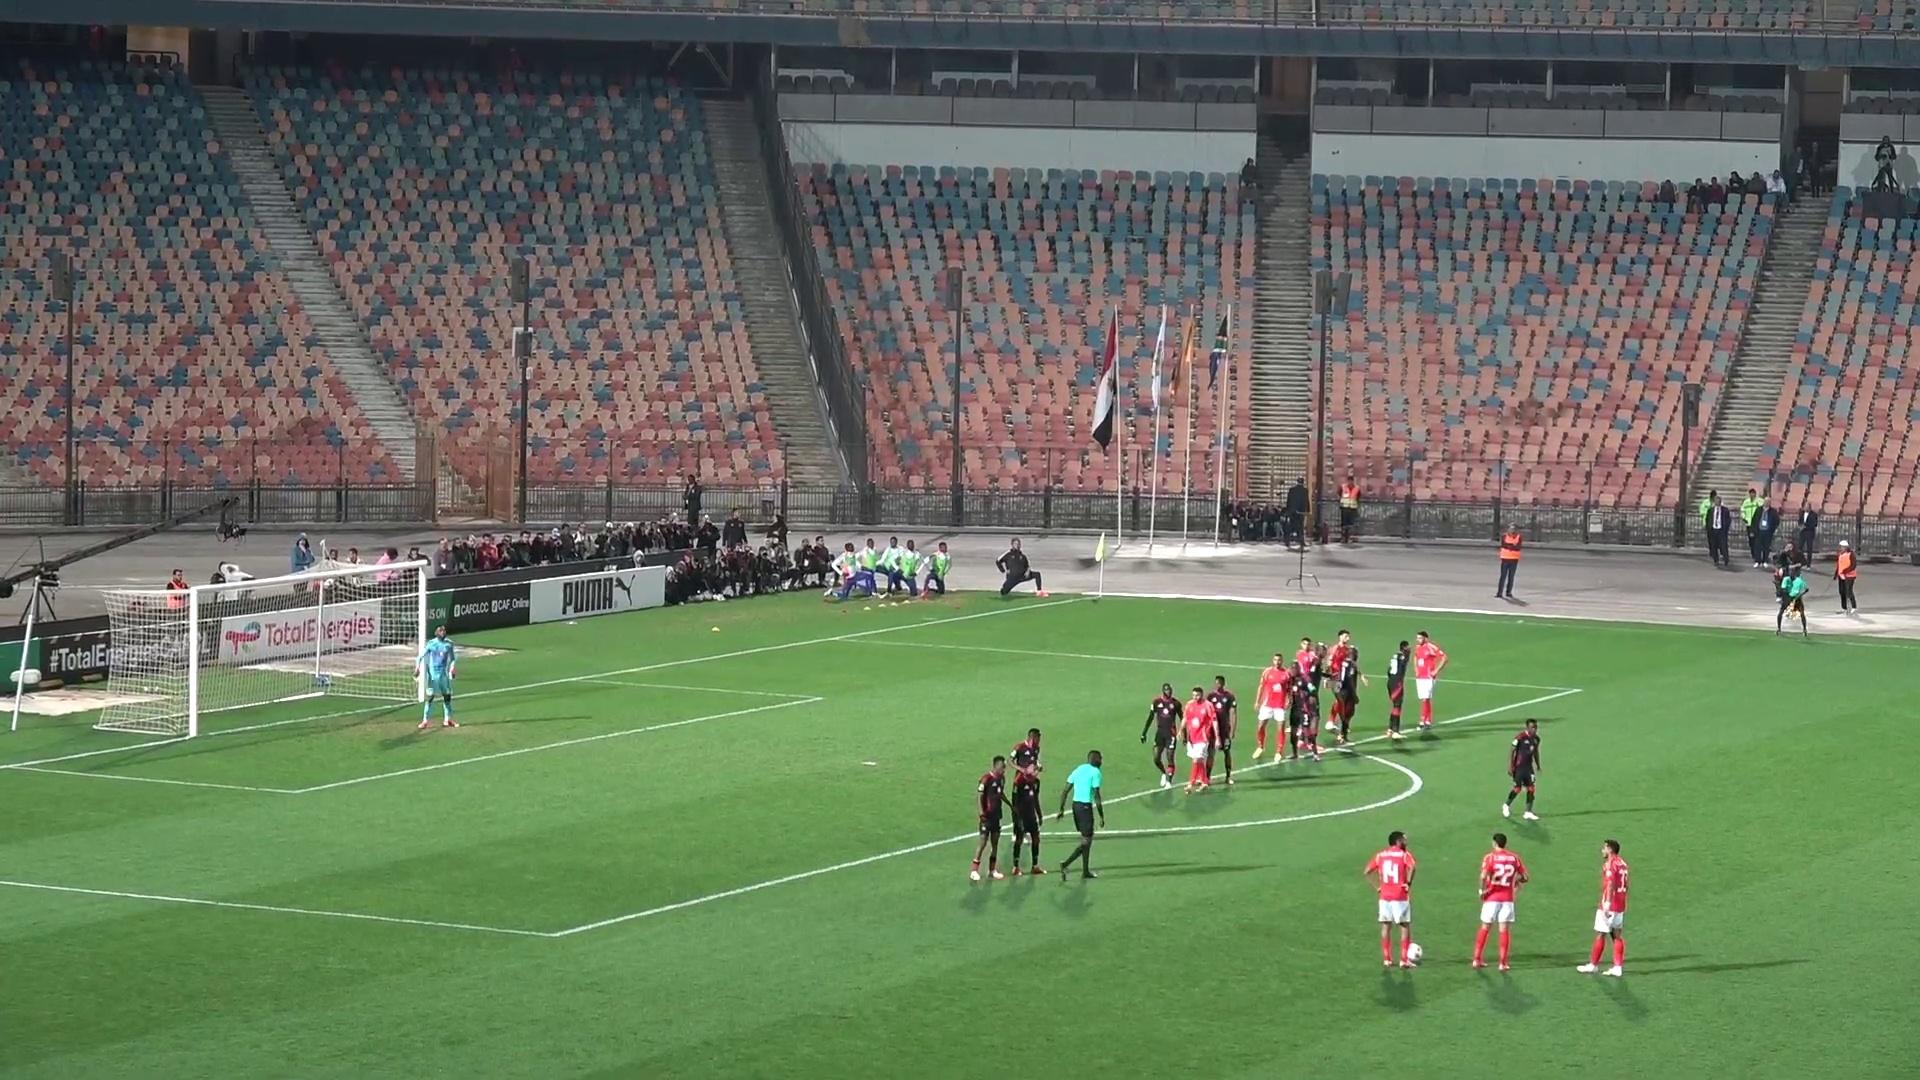Ball: (1399, 939, 1424, 969)
GK2: (415, 626, 458, 731)
Refree: (1060, 750, 1104, 878), (1775, 553, 1808, 634)
Team1: (1470, 832, 1528, 971), (1364, 831, 1422, 967), (1577, 839, 1630, 977), (1251, 654, 1300, 765), (1182, 686, 1218, 791), (1411, 630, 1447, 731), (1321, 629, 1360, 679), (1295, 636, 1317, 673)
Team2: (971, 756, 1007, 880), (1009, 746, 1044, 874), (1141, 682, 1182, 787), (1501, 719, 1542, 822), (1209, 675, 1237, 785), (1329, 655, 1364, 744), (1287, 657, 1316, 758), (1386, 642, 1412, 738), (1009, 727, 1047, 771)
